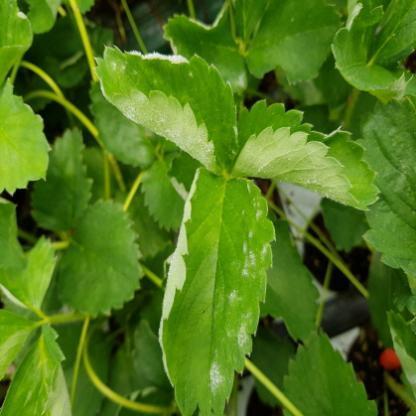Strawberry_Powdery_Mildew_Leaf: (157, 166, 277, 416), (92, 46, 237, 174), (227, 100, 384, 212), (162, 0, 250, 97)
